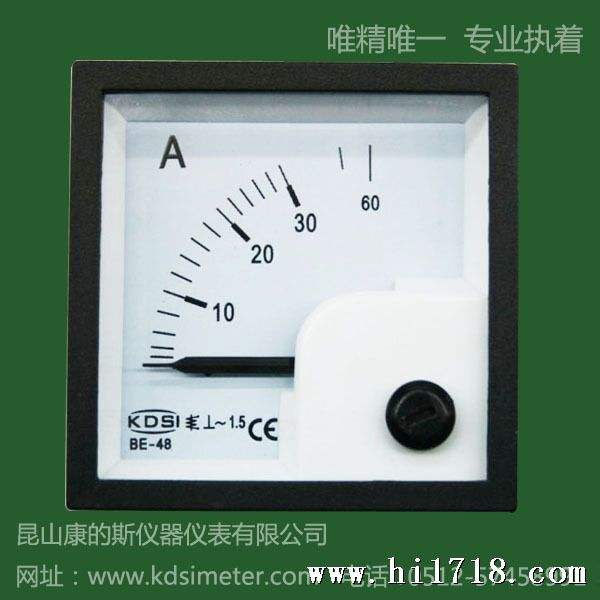pointer: (96, 91, 488, 479)
